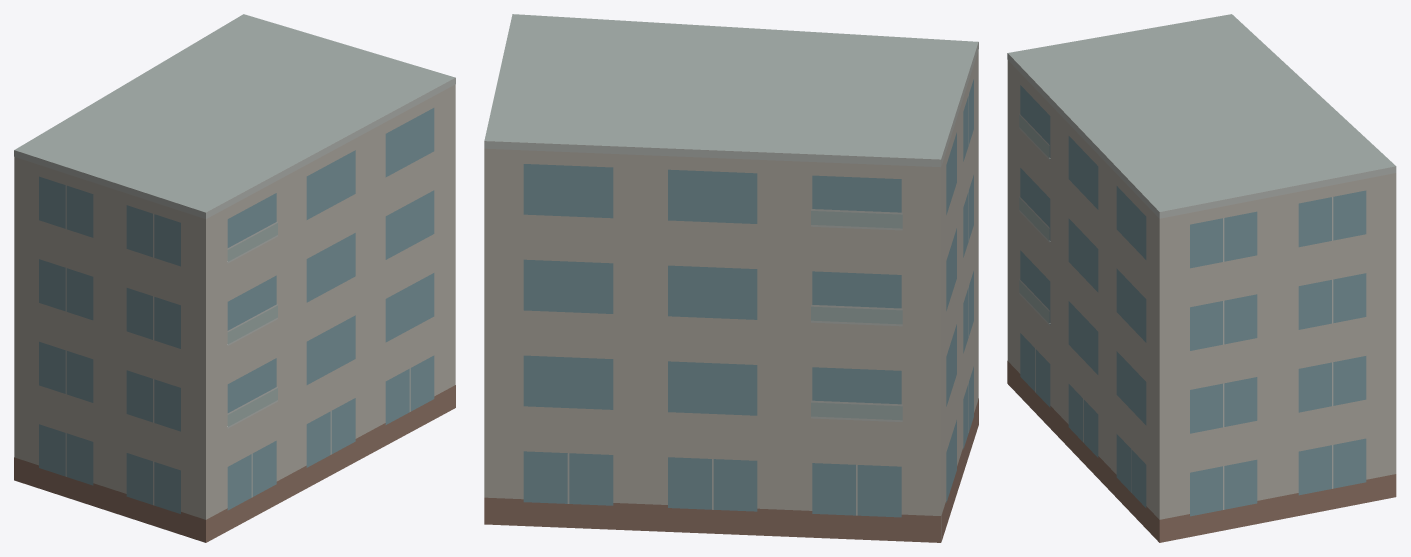
File: survey-upis-32942201.glb
3 views of the same model, side by side, from view 1: azimuth 30°, elevation 25°; view 2: azimuth 150°, elevation 25°; view 3: azimuth 270°, elevation 25° (orthographic). The views are drawn at different scales.
Visible parts, largest first — view 1: survey-upis-32942201.tmp; view 2: survey-upis-32942201.tmp; view 3: survey-upis-32942201.tmp.
Part boxes in pixels (bbox=[...]): survey-upis-32942201.tmp: bbox=[14, 14, 455, 542]; survey-upis-32942201.tmp: bbox=[484, 14, 978, 542]; survey-upis-32942201.tmp: bbox=[1007, 14, 1396, 542].
Size of the model in its own units: 15.68 by 12.2 by 13.01.
